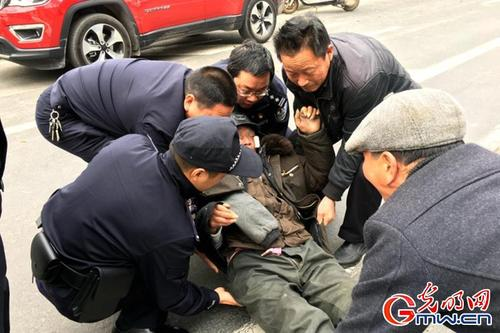fall: (199, 107, 358, 333)
